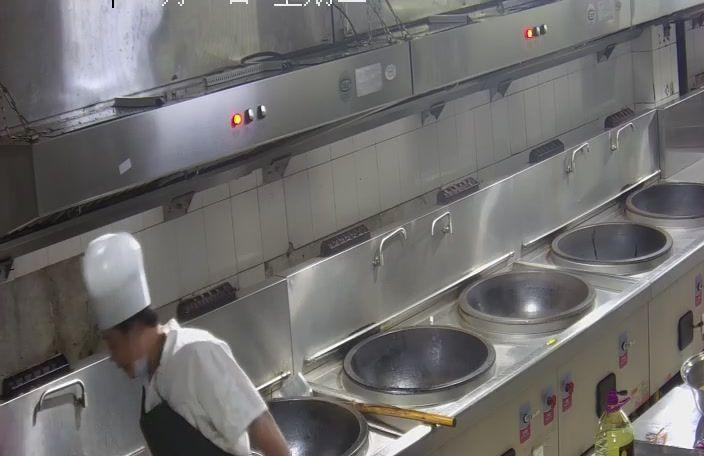mask: (109, 334, 148, 380)
